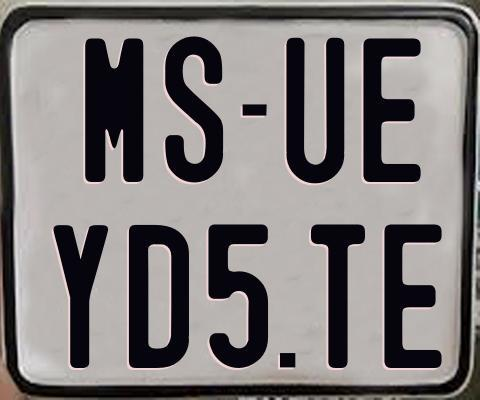5: (206, 221, 270, 370)
D: (126, 222, 192, 369)
E: (361, 36, 422, 186), (383, 224, 441, 370)
M: (85, 35, 146, 181)
S: (164, 33, 228, 184)
T: (310, 221, 366, 371)
U: (284, 37, 345, 183)
Y: (50, 222, 111, 371)
